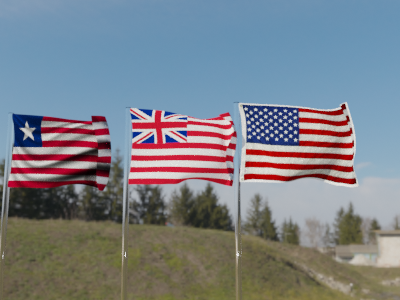America flag: (240, 100, 356, 182)
Liberia flag: (7, 113, 112, 192)
Malaysia flag: (128, 111, 236, 184)
